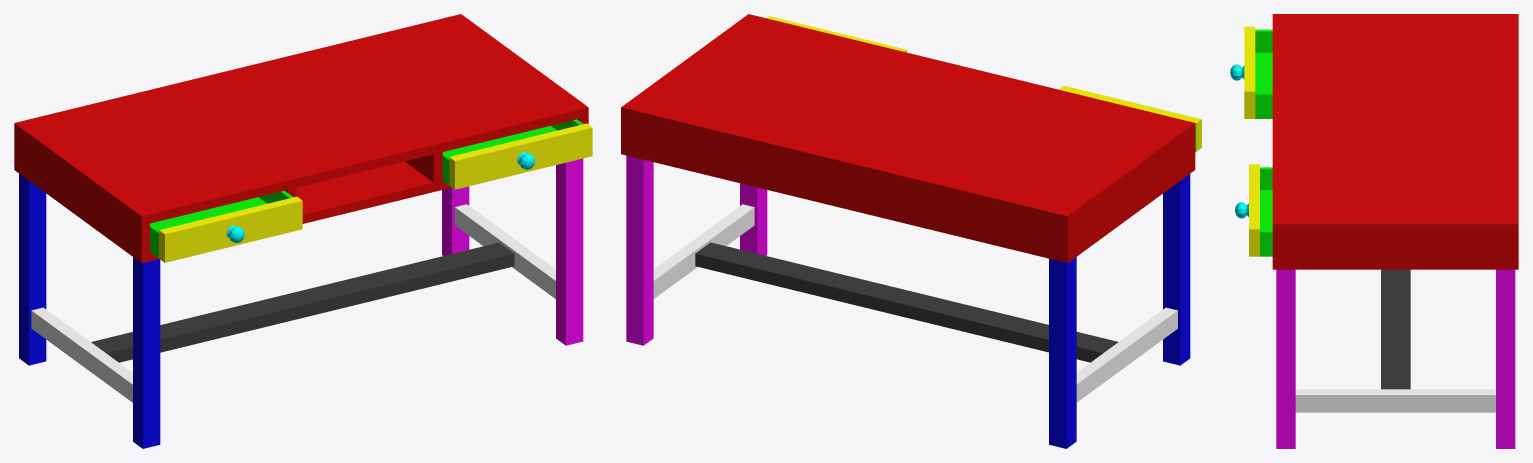
The model's file is Abbie - LaboratoryTable.fbx.
3 renders of one model, left to right at view 1: azimuth 30°, elevation 25°; view 2: azimuth 150°, elevation 25°; view 3: azimuth 270°, elevation 25°, orthographic. The views are drawn at different scales.
Parts seen in each view (by area): view 1: table1; view 2: table1; view 3: table1.
Boxes of the visible parts, box(x1,y1,x2,y2) form: table1: box(14, 14, 592, 448); table1: box(621, 14, 1201, 448); table1: box(1230, 14, 1518, 448).
Size of the model in its own units: 1.8 by 0.9034 by 1.04.
